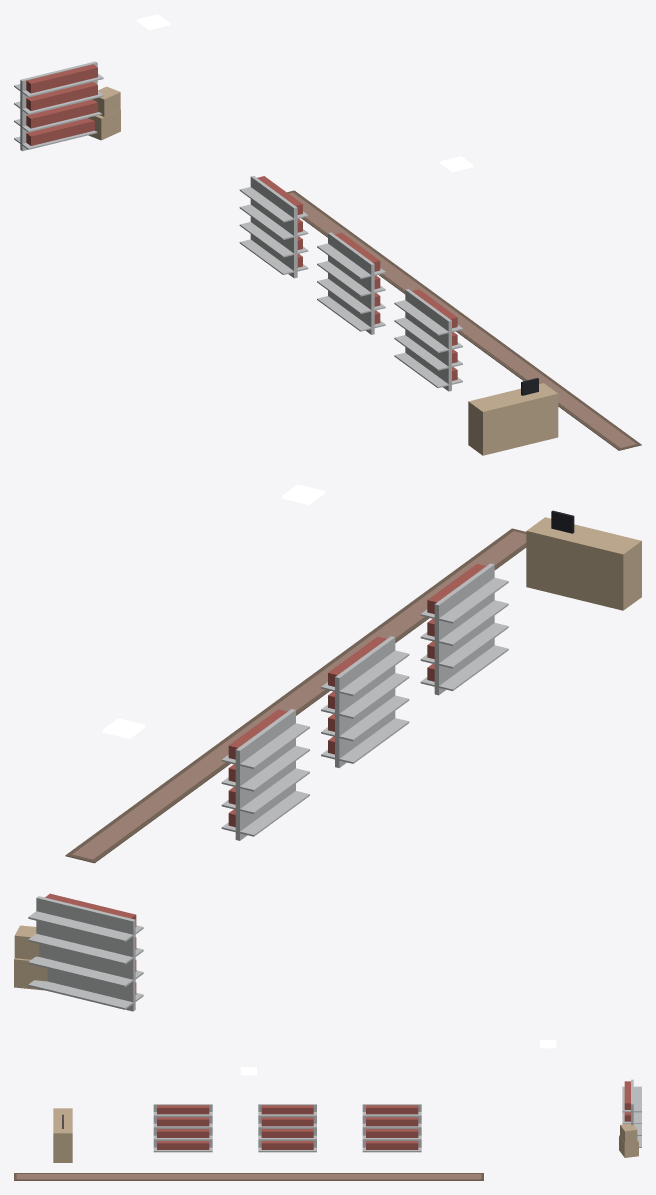
File: fine-s0.glb
The picture shows the model from 3 angles, top to bottom: view 1: azimuth 30°, elevation 25°; view 2: azimuth 150°, elevation 25°; view 3: azimuth 270°, elevation 25°; orthographic projection. The views are drawn at different scales.
Parts seen in each view (by area): view 1: soft-s0, shelving.000, shop-counter.000, shelf.000, shelf.001, shelf.002, cardboard-box.000; view 2: shelving.000, soft-s0, shop-counter.000, shelf.002, shelf.001, shelf.000, cardboard-box.000; view 3: soft-s0, shelf.000, shelf.002, shelf.001, shop-counter.000, shelving.000, cardboard-box.000.
Part boxes in pixels (x1,y1,x2,y2): soft-s0: (287, 190, 641, 450); shelving.000: (14, 61, 103, 151); shop-counter.000: (468, 378, 558, 455); shelf.000: (239, 176, 308, 278); shelf.001: (317, 232, 385, 334); shelf.002: (394, 289, 462, 391); cardboard-box.000: (88, 86, 120, 140); shelving.000: (28, 893, 143, 1011); soft-s0: (65, 528, 526, 863); shop-counter.000: (526, 510, 641, 610); shelf.002: (420, 563, 508, 695); shelf.001: (321, 636, 409, 768); shelf.000: (221, 709, 309, 840); cardboard-box.000: (14, 925, 47, 990); soft-s0: (14, 1173, 483, 1180); shelf.000: (362, 1104, 421, 1152); shelf.002: (153, 1104, 212, 1152); shelf.001: (258, 1104, 316, 1152); shop-counter.000: (53, 1108, 72, 1162); shelving.000: (622, 1079, 641, 1147); cardboard-box.000: (619, 1124, 638, 1157).
Bounding box in the file's own units: 3.91 × 3.6 × 19.22.
